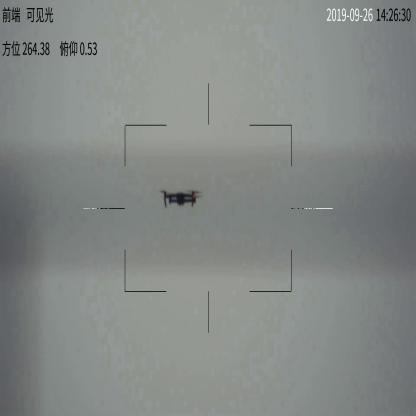uav: (155, 187, 205, 208)
